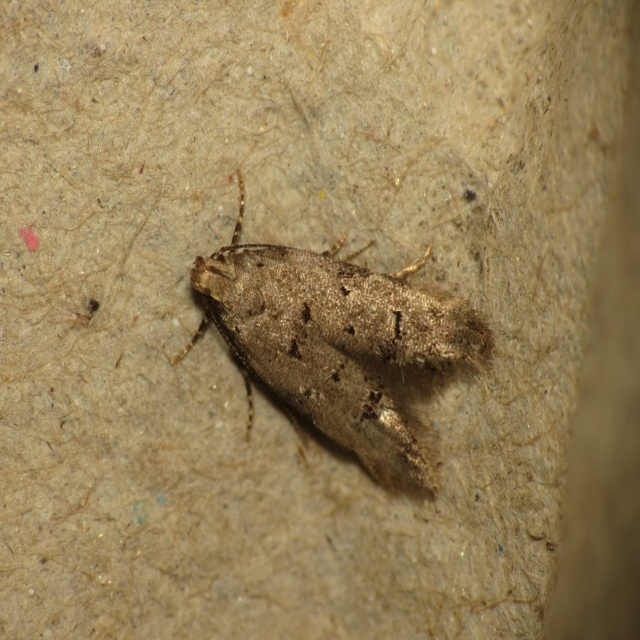Moths and butterflies: (171, 169, 491, 502)
